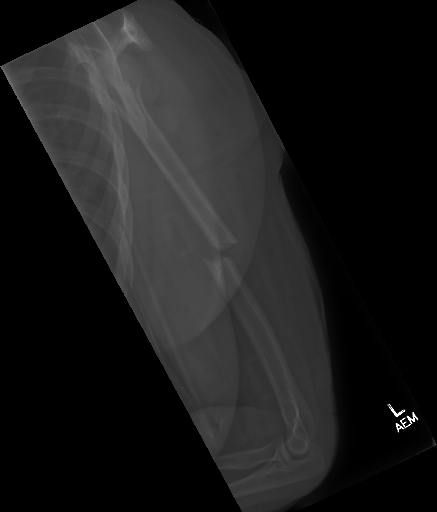fracture: (192, 205, 249, 294)
